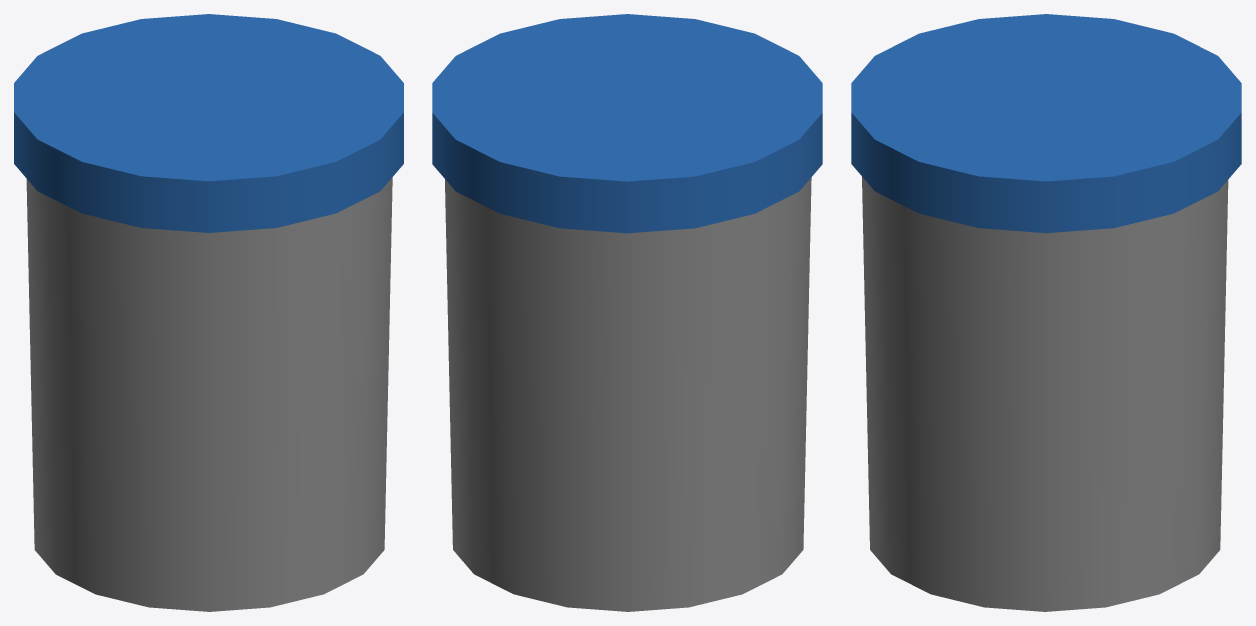
Rendered from Container 3.FBX.
3 renders of one model, left to right at view 1: azimuth 30°, elevation 25°; view 2: azimuth 150°, elevation 25°; view 3: azimuth 270°, elevation 25°, orthographic.
Parts seen in each view (by area): view 1: Container 3; view 2: Container 3; view 3: Container 3.
Boxes of the visible parts, x1,y1,x2,y2 form: Container 3: [14, 14, 403, 611]; Container 3: [432, 14, 822, 611]; Container 3: [851, 14, 1241, 611].
Size of the model in its own units: 5.77 by 7.05 by 5.68.
